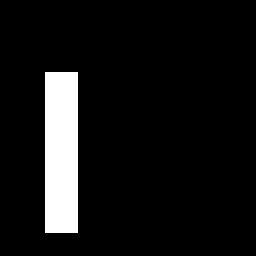person: (45, 72, 77, 232)
